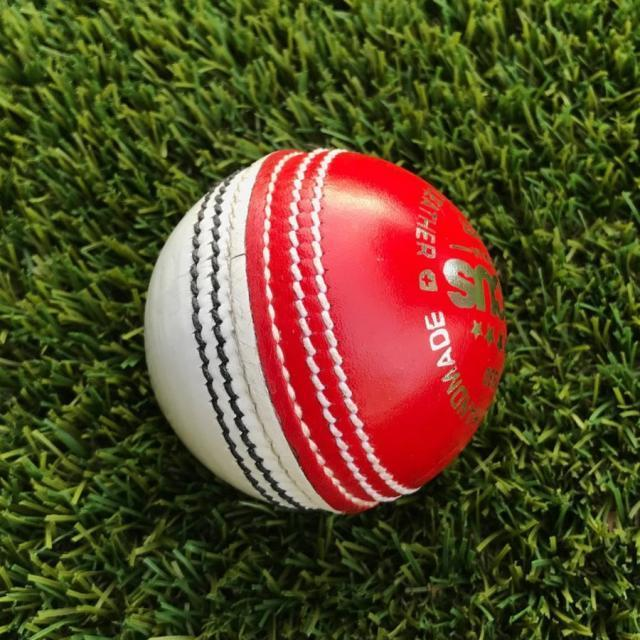cricket ball: (144, 147, 507, 513)
